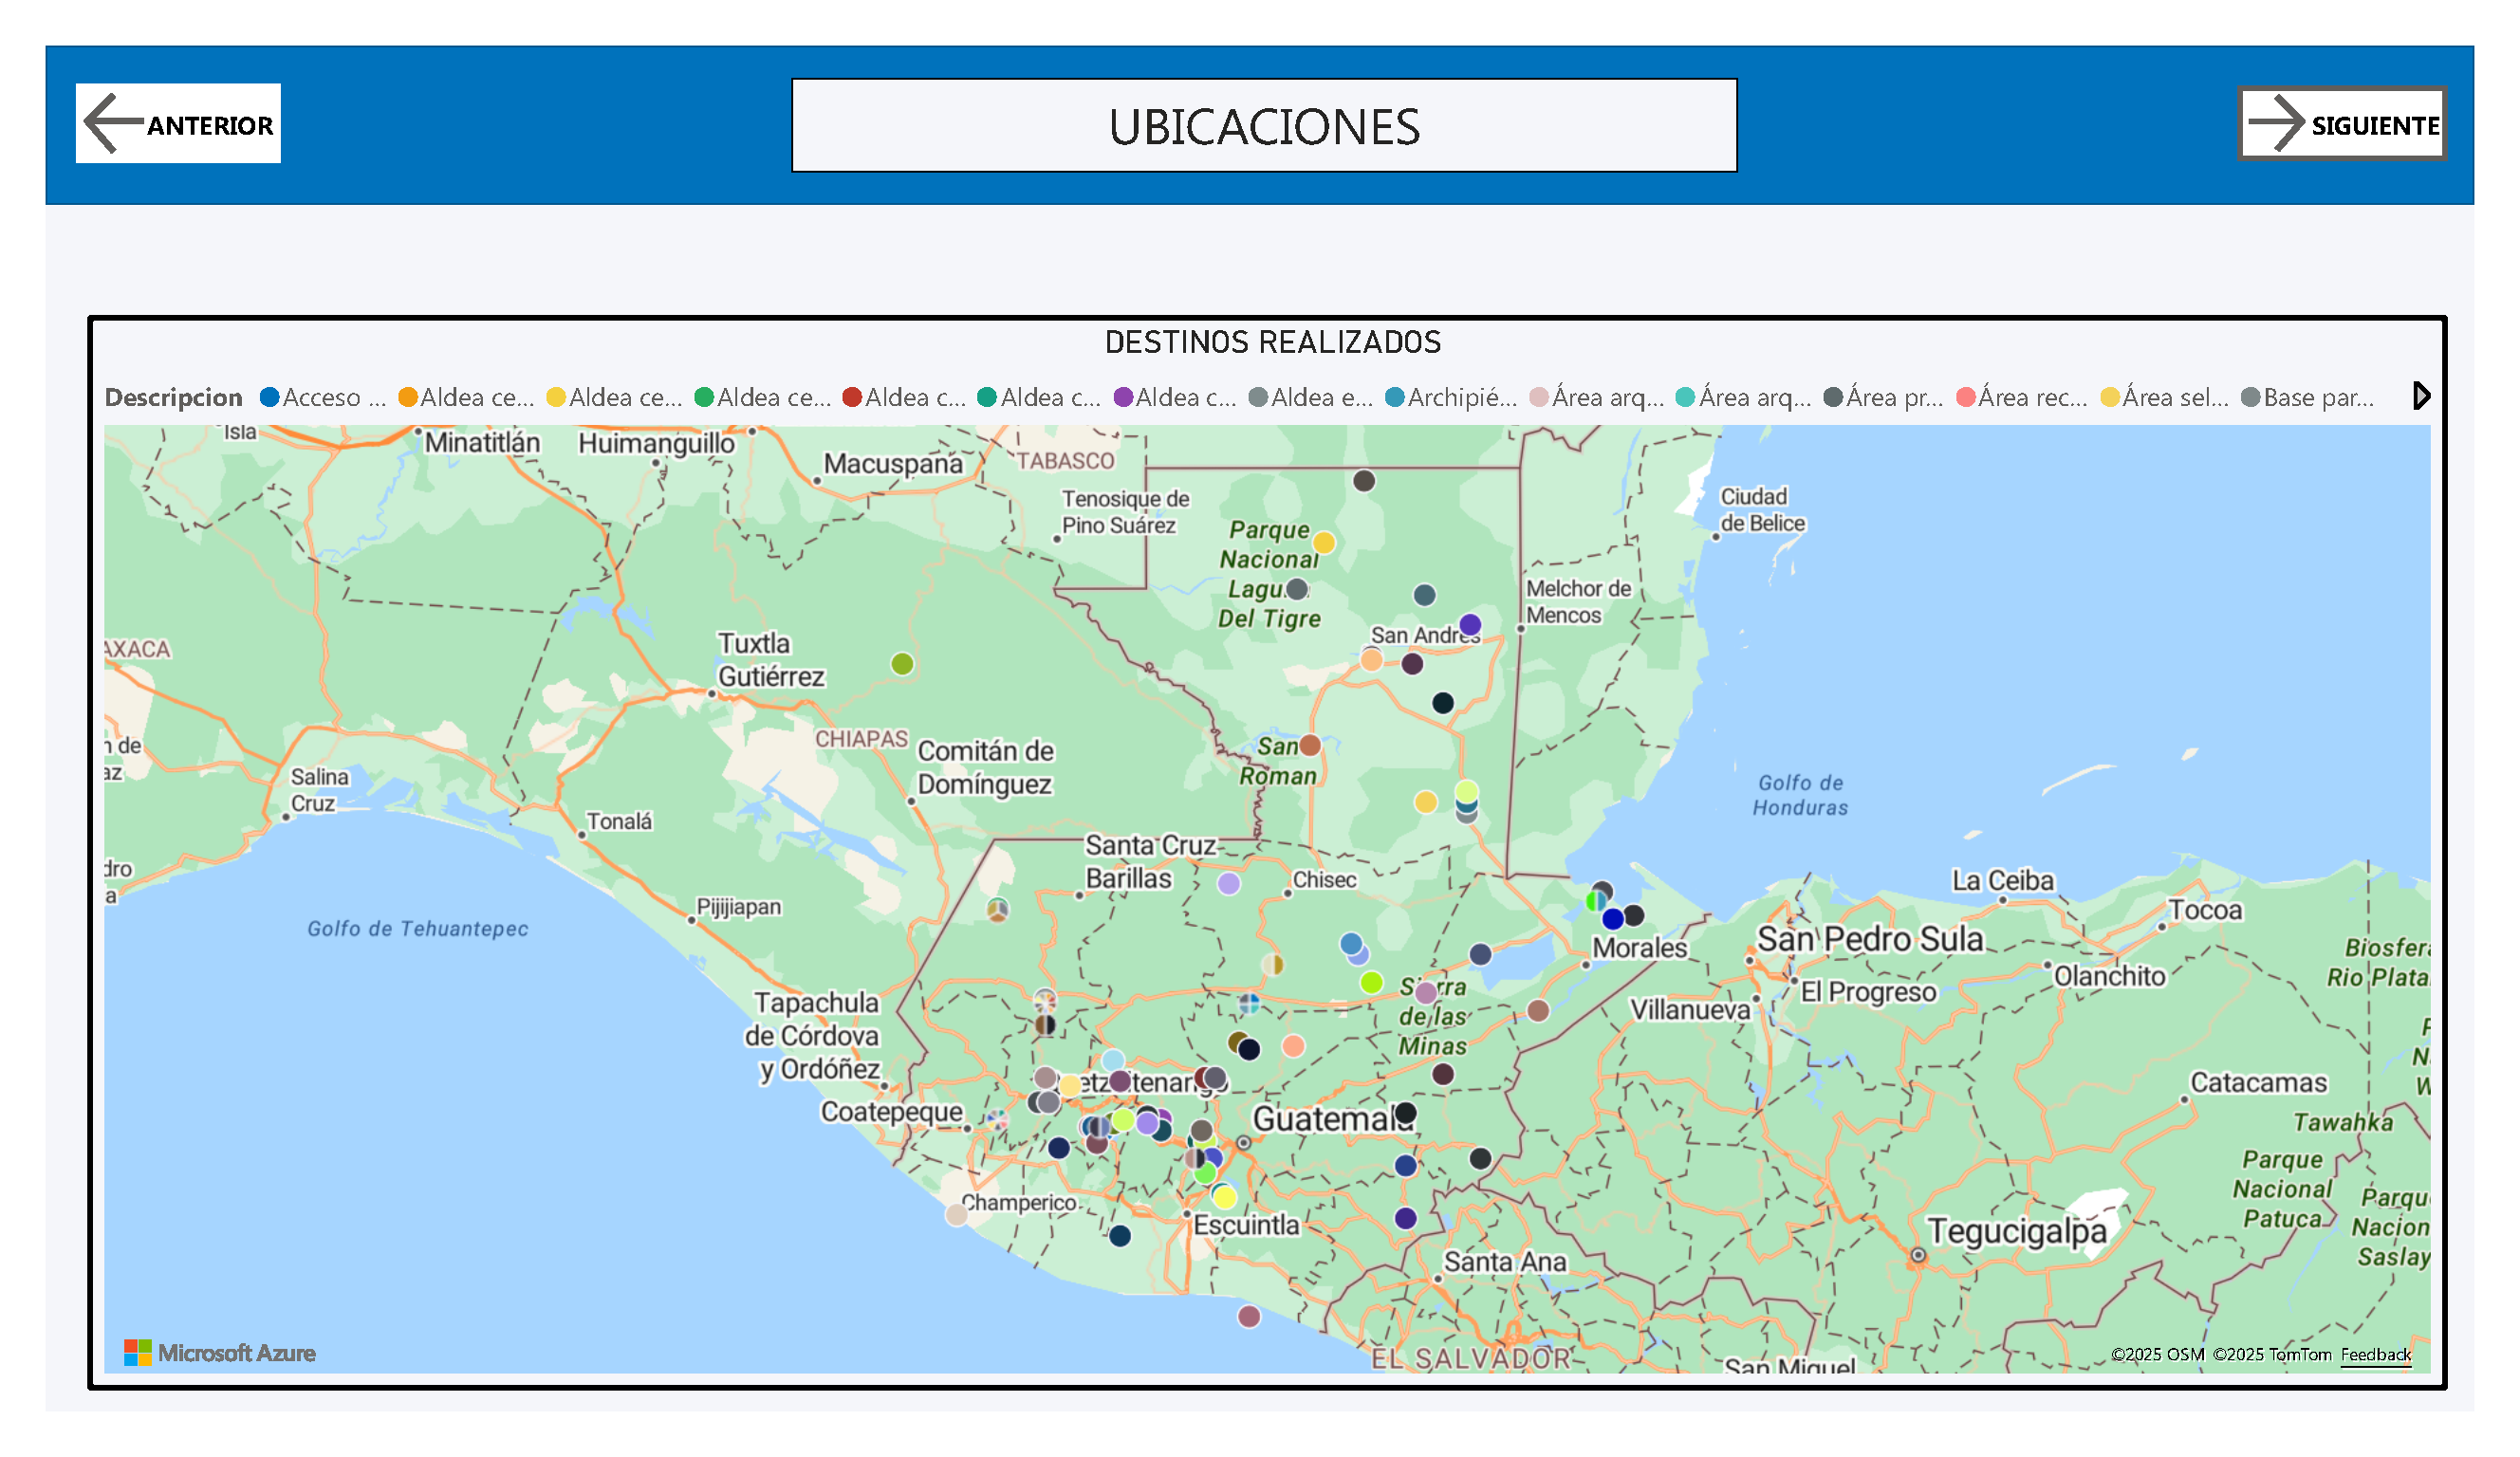

The page's visual inventory and layout, read from the dashboard file:
{"tool":"powerbi","page":{"name":"UBICACIONES","canvas":[1280,720],"ordinal":10},"visuals":[{"type":"azureMap","title":"DESTINOS REALIZADOS","fields":{"Y":["GEOLOCALIZACIONES.Latitud"],"X":["GEOLOCALIZACIONES.Longitud"],"Series":["GEOLOCALIZACIONES.Descripcion"]},"box":[22,142.2,1244.2,566.3],"z":0},{"type":"shape","box":[0,0,1280,83.8],"z":1000},{"type":"textbox","box":[393.3,16.7,498.3,50],"z":2000},{"type":"actionButton","box":[1154.6,21.1,111.5,39.5],"z":4000},{"type":"actionButton","title":"Atras","box":[15.8,20.2,108,42.1],"z":5000}]}

Visuals, with their boxes in screenshot pixels (x1, y1, x2, y2), scaled from the page's 1280x720 canvas onto the 2520x1457 screenshot:
"DESTINOS REALIZADOS" azureMap: select_region(44, 287, 2492, 1433)
shape: select_region(0, 0, 2519, 170)
textbox: select_region(774, 34, 1755, 135)
actionButton: select_region(2273, 43, 2492, 122)
"Atras" actionButton: select_region(31, 41, 244, 126)
